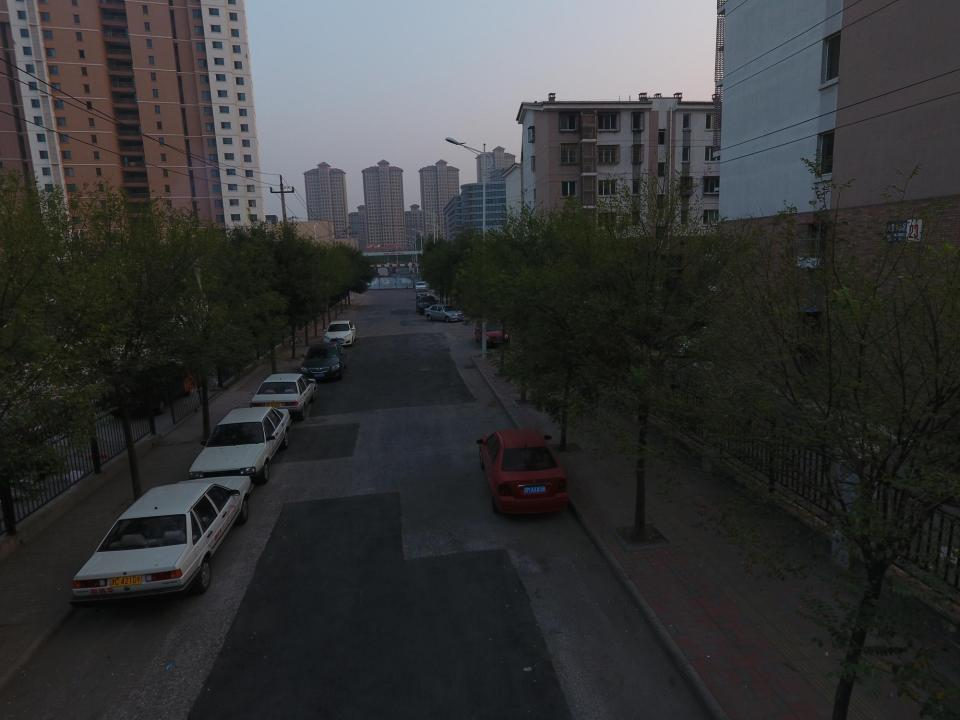car: (67, 476, 252, 607), (477, 430, 567, 519), (188, 407, 291, 484), (101, 361, 191, 416), (249, 373, 316, 420), (301, 342, 346, 380), (475, 320, 510, 348), (323, 320, 356, 346), (424, 304, 466, 323), (416, 296, 438, 314), (414, 288, 431, 300), (415, 282, 426, 291)
